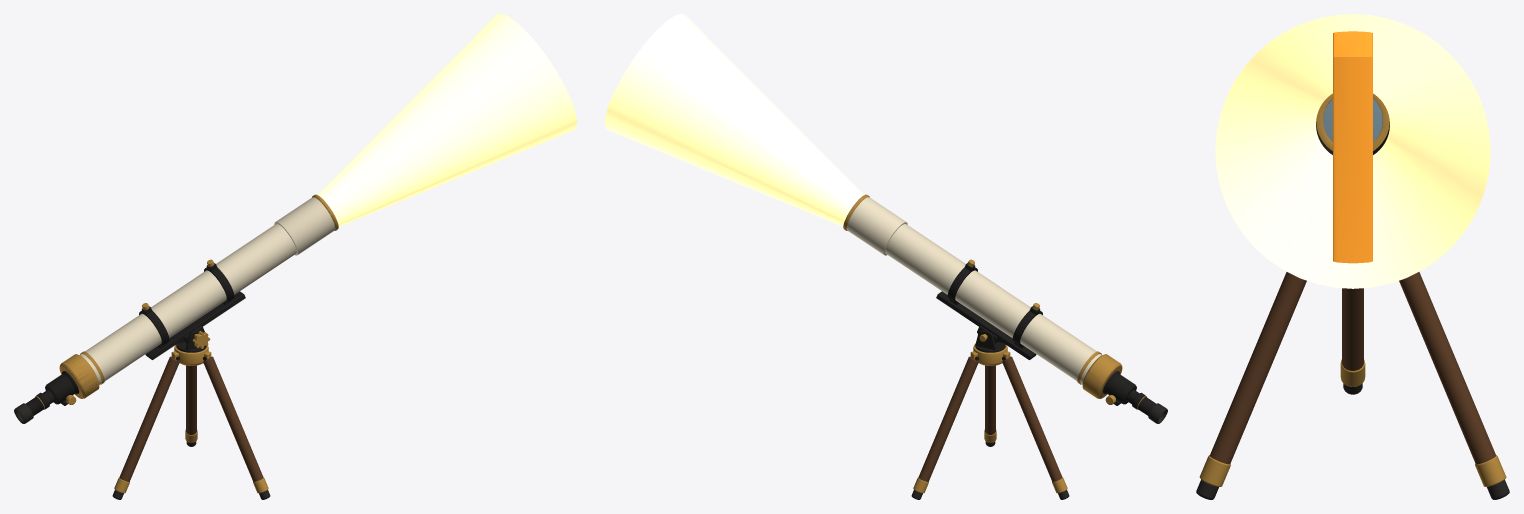
File: telescope.glb
3 renders of one model, left to right at view 1: azimuth 30°, elevation 25°; view 2: azimuth 150°, elevation 25°; view 3: azimuth 270°, elevation 25°, orthographic. The views are drawn at different scales.
Visible parts, largest first — view 1: telescope; view 2: telescope; view 3: telescope.
Boxes of the visible parts, x1=… form: telescope: x1=14, y1=14, x2=576, y2=499; telescope: x1=605, y1=14, x2=1167, y2=499; telescope: x1=1196, y1=14, x2=1509, y2=499.
Bounding box in the file's own units: 1.39 × 0.9414 × 0.3509.
8 materials, 1 textured.
